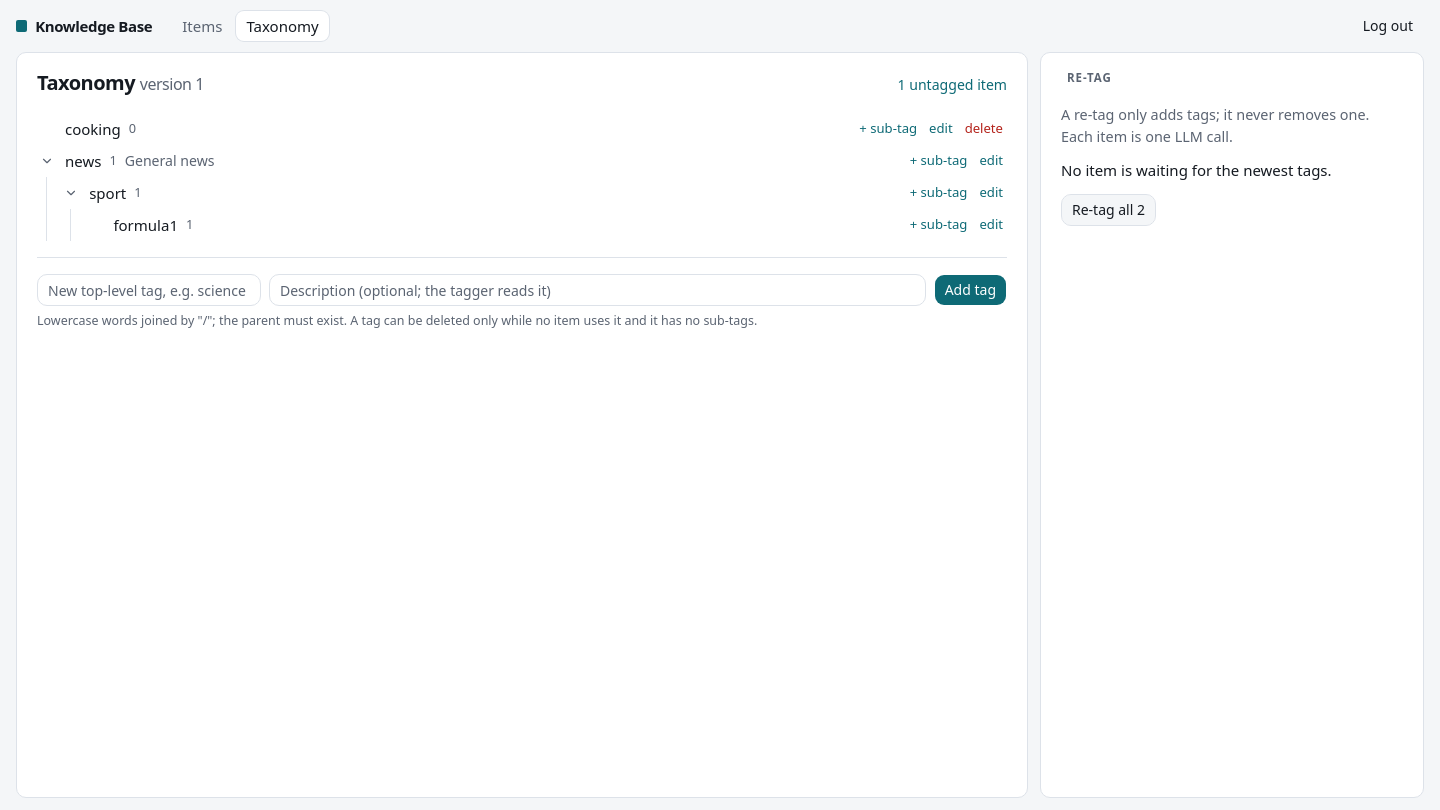
it: add a top-level Tag and a sub-tag; a missing parent is explained in the form
The width and height of the screenshot is (1440, 810).
Check: the heading "Taxonomy version 1" is shown, box [37,69,204,97]
Check: the link "formula1" is shown, box [113,214,178,236]
Step 1. Type "science/physics" into the field named "Path" → (149, 290), box [37,274,261,306]
Step 2. Click the button "Add tag" → click(970, 290), box [934,274,1007,306]
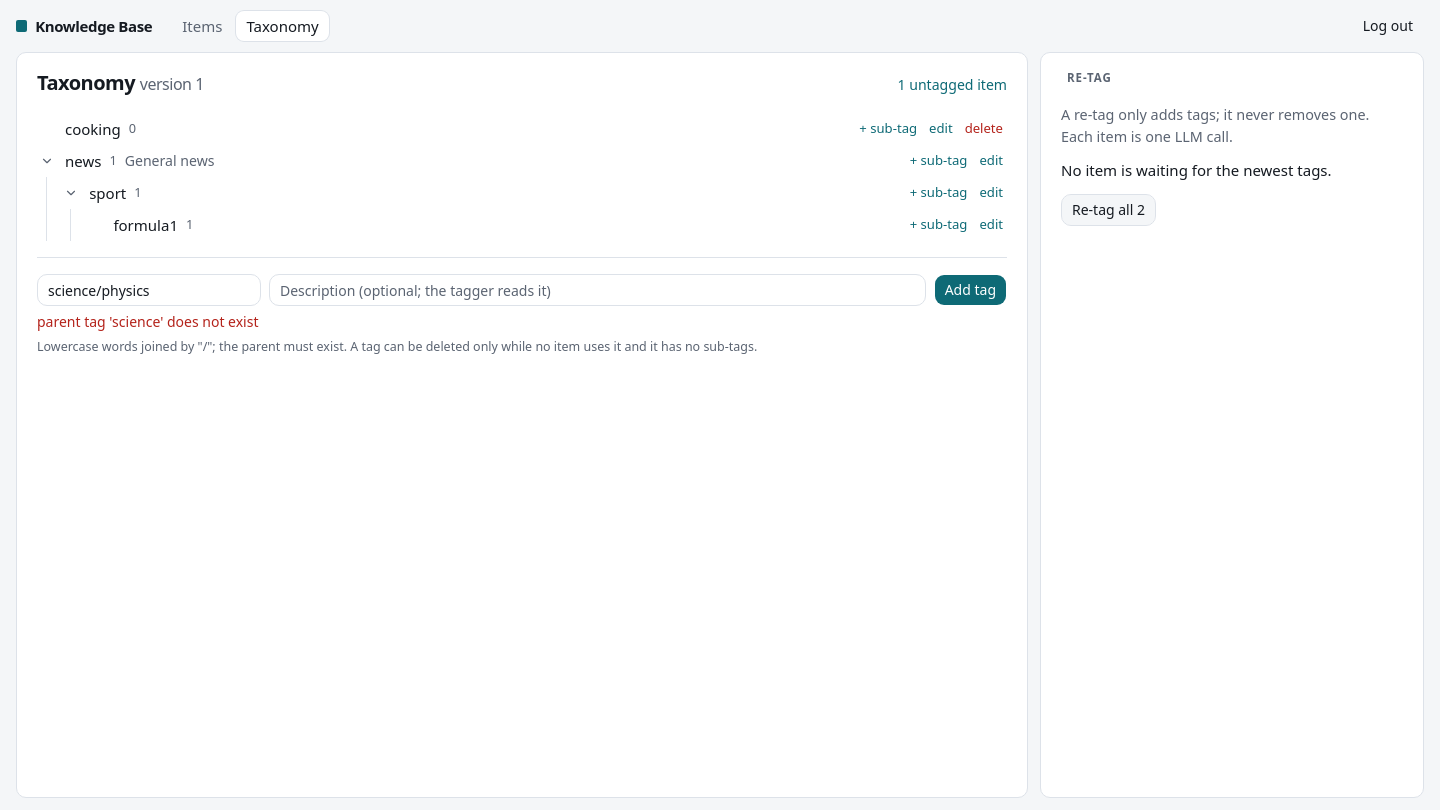
Check: the message reads "parent tag 'science' does not exist", box [37,312,258,331]
Step 3. Replace the text in the field named "Path" with "science" → (149, 290), box [37,274,261,306]
Step 4. Type "Research and discoveries" into the field labelled "Description" → (597, 290), box [269,274,926,306]
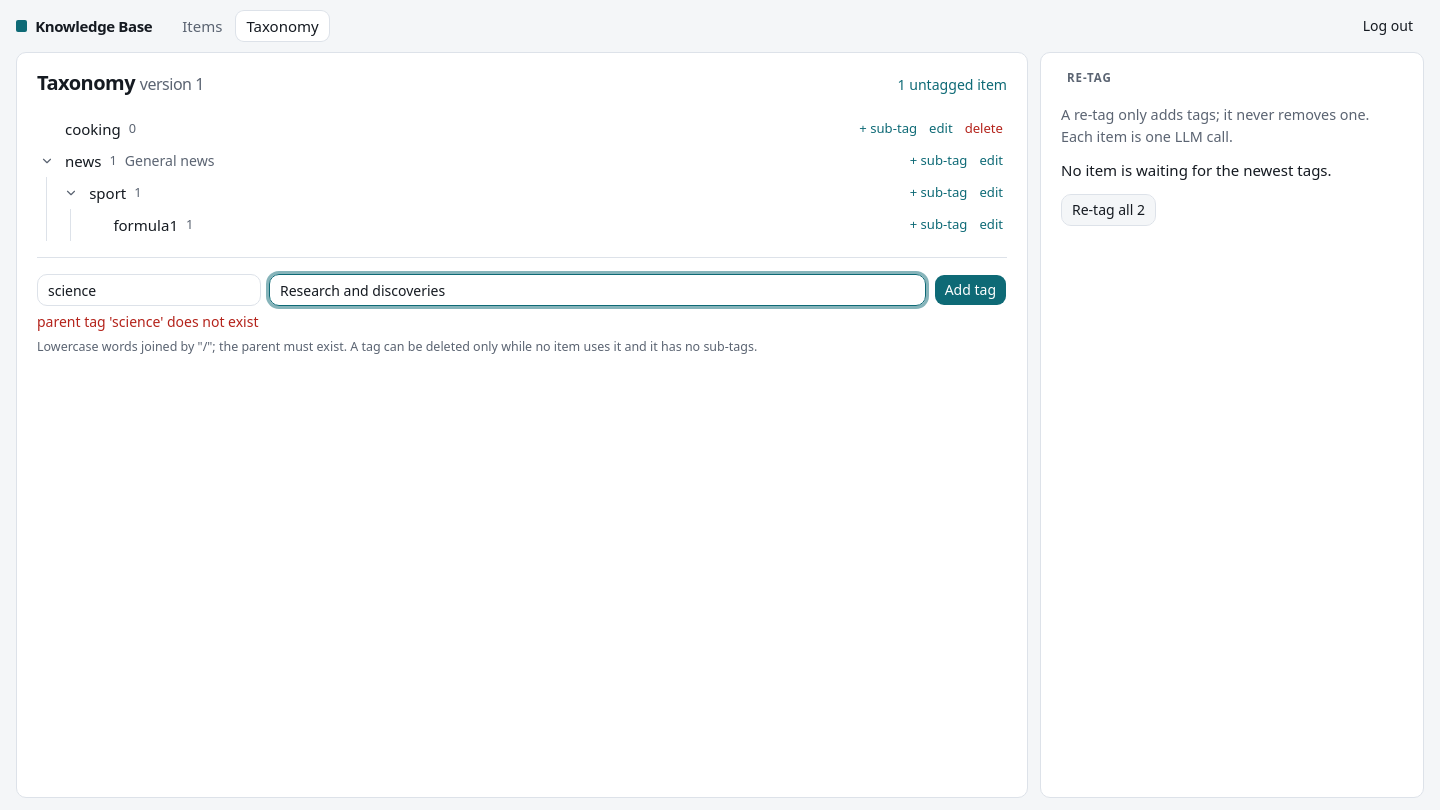
Step 5. Click the button "Add tag" → click(970, 290), box [934,274,1007,306]
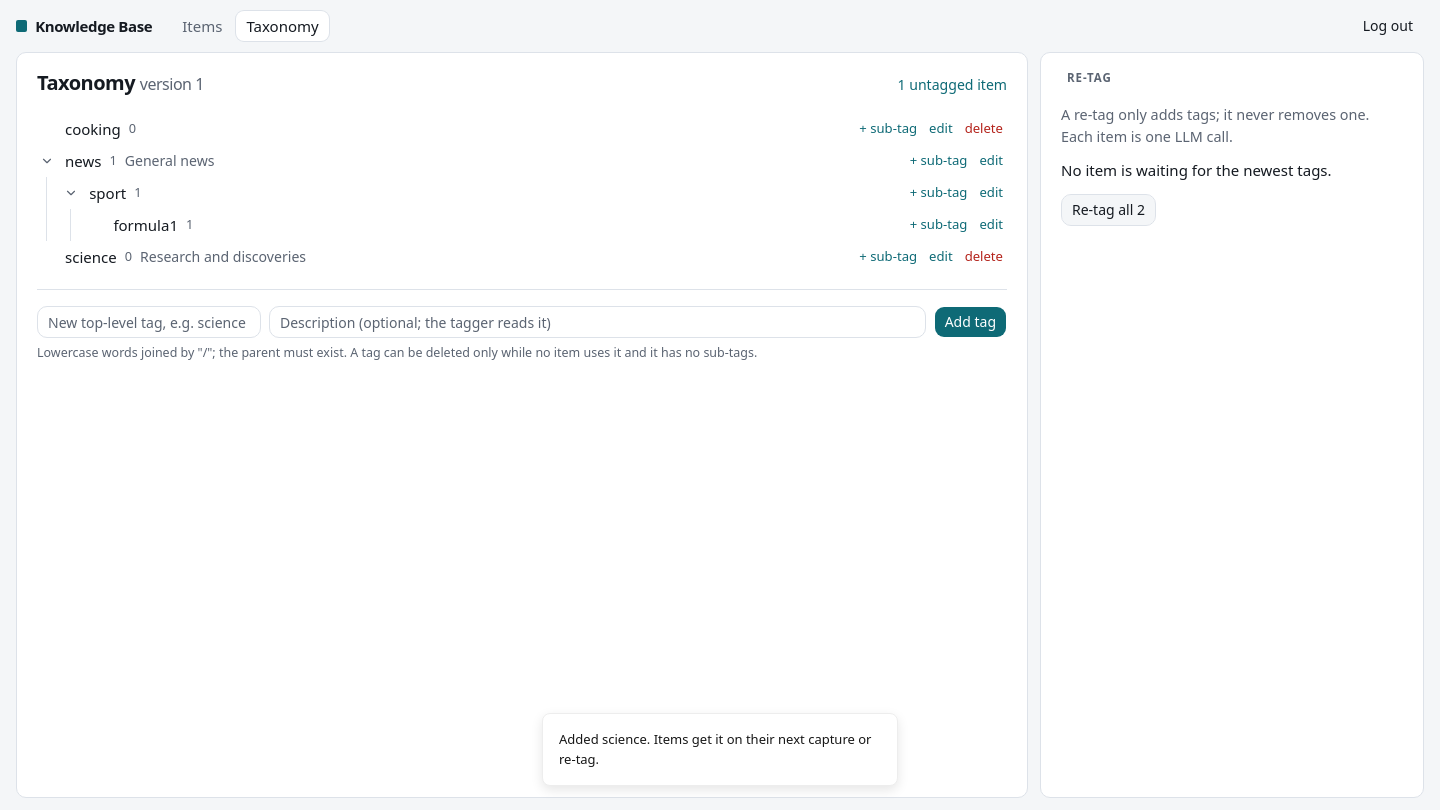
Check: the link "science" is shown, box [65,246,117,268]
Check: the message "parent tag 'science' does not exist" is gone
Step 6. Click the button with aria-label "Add a sub-tag to science" → click(888, 257), box [859,247,917,267]
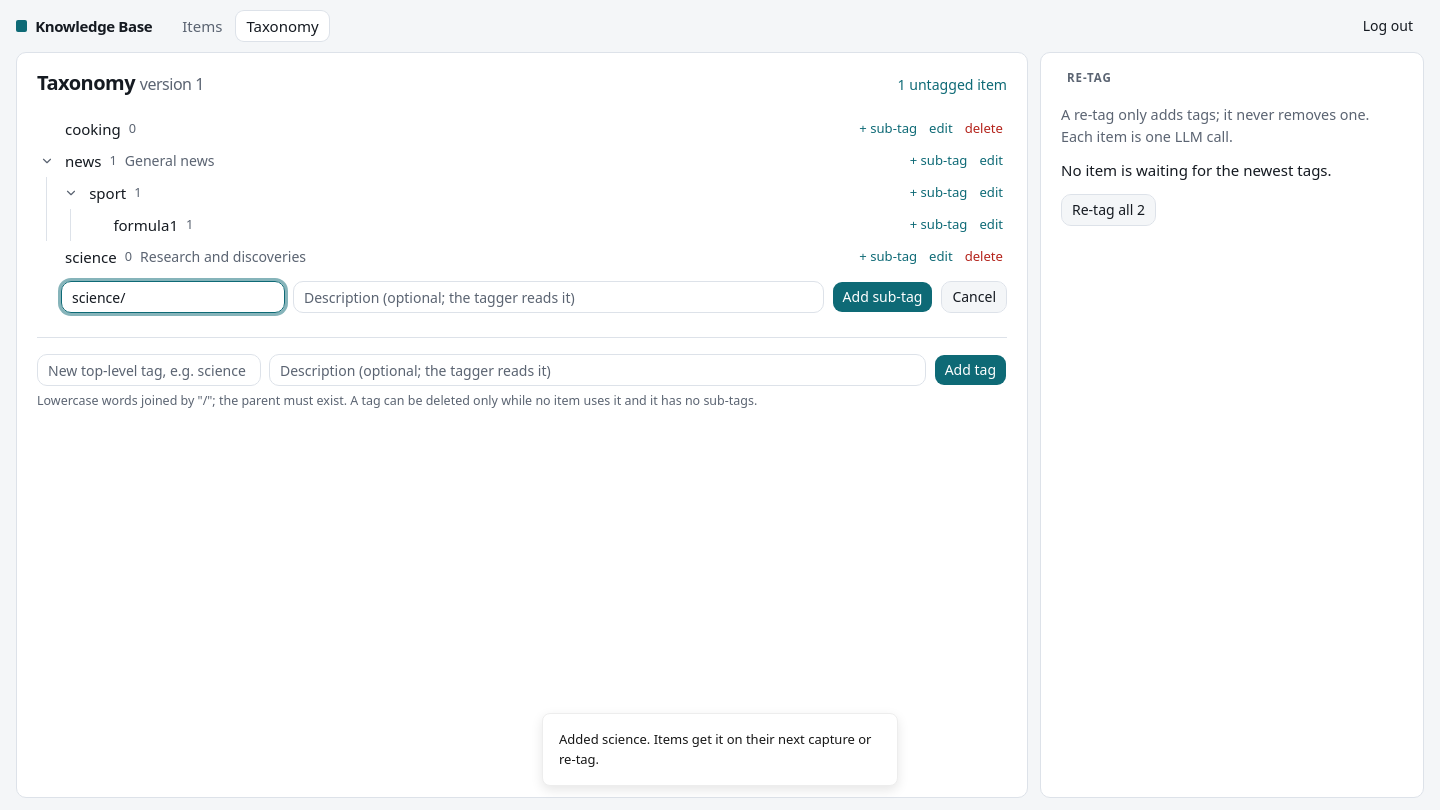
Check: the field named "Path" holds "science/"
Step 7. Type "physics" into the field named "Path" → (173, 297), box [61,281,285,313]
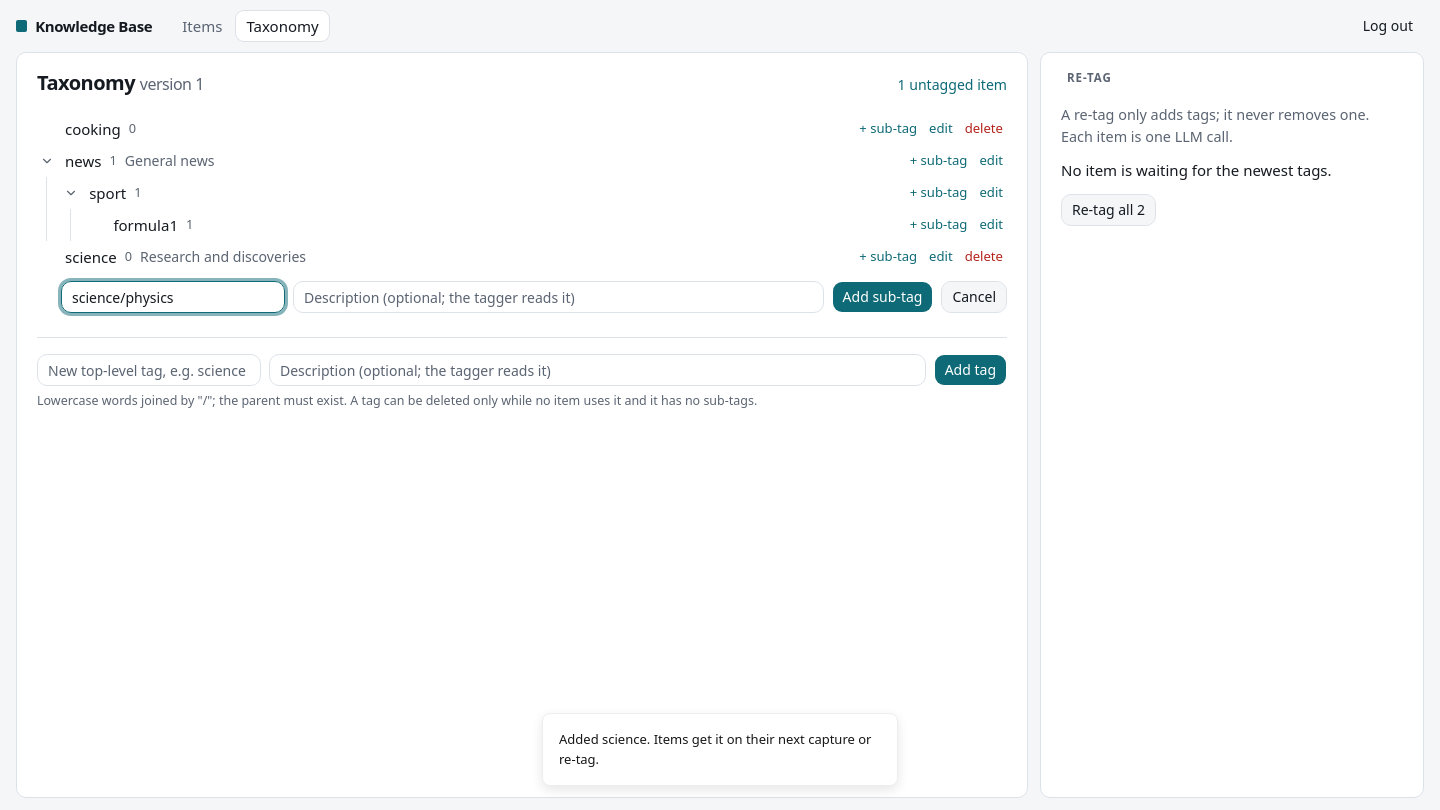
Step 8. Click the button "Add sub-tag" → click(882, 297), box [832,281,933,313]
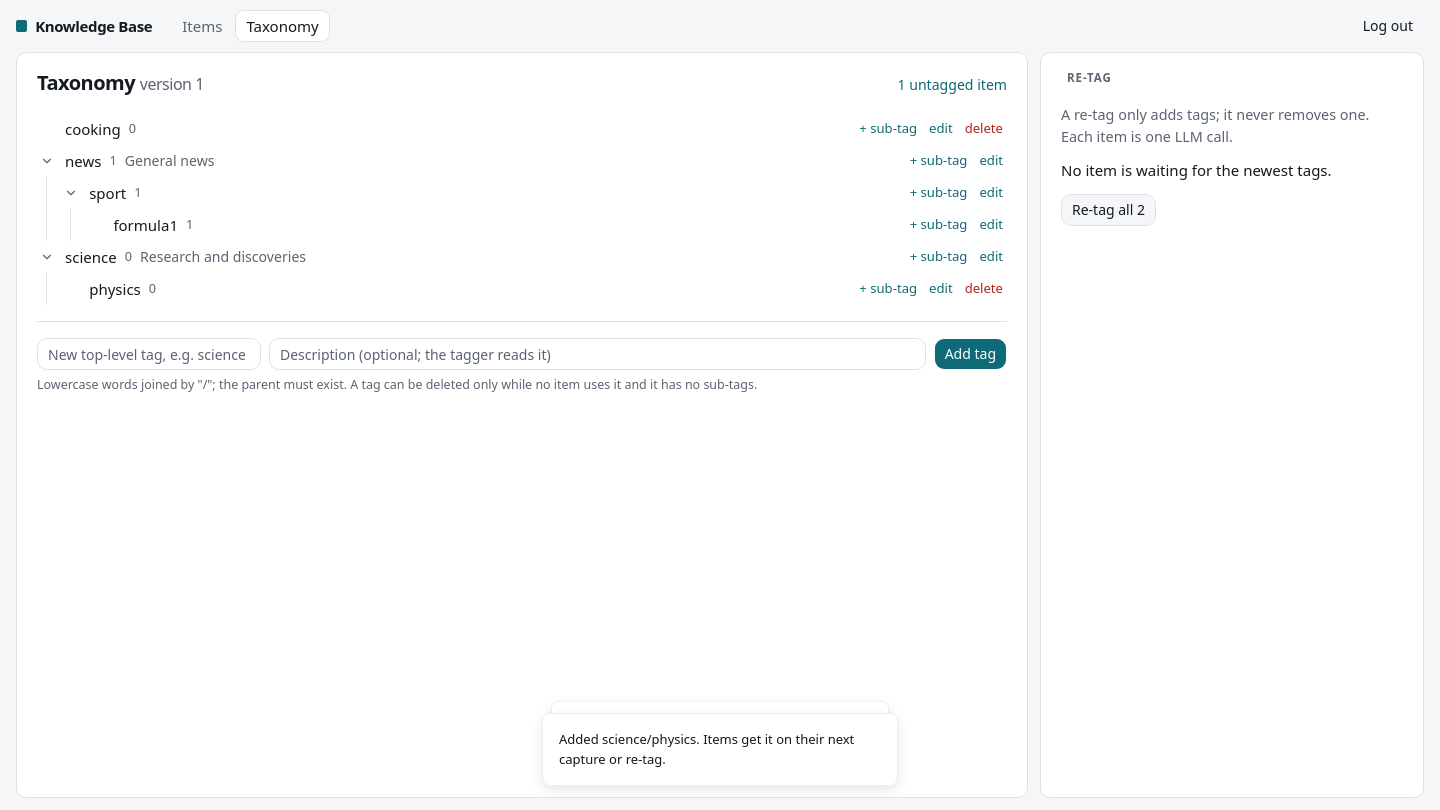
Check: the link "physics" is shown, box [89,278,141,300]
